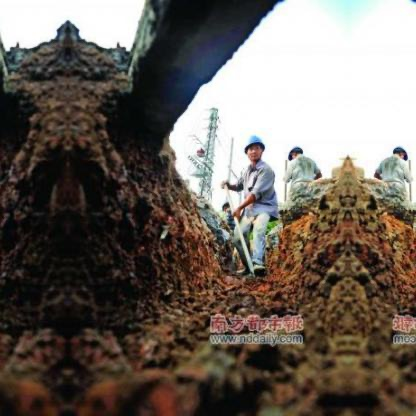Safety Helmet: (239, 132, 273, 164), (386, 141, 410, 170), (281, 141, 307, 162)
